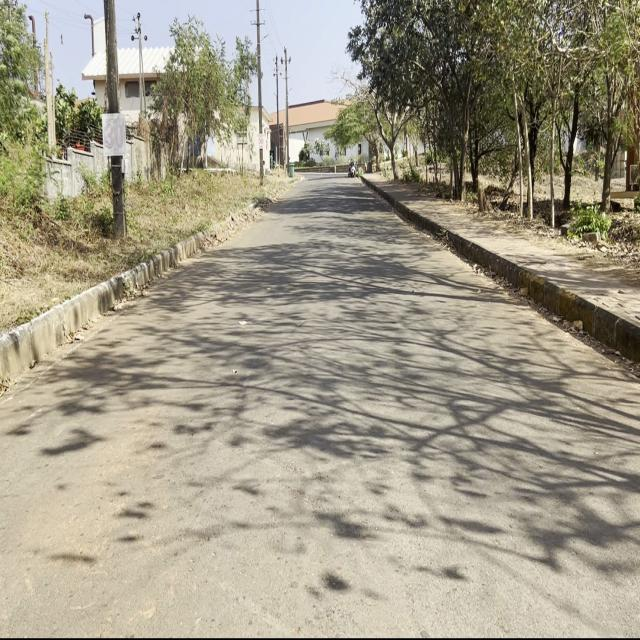Road: (4, 172, 637, 631)
